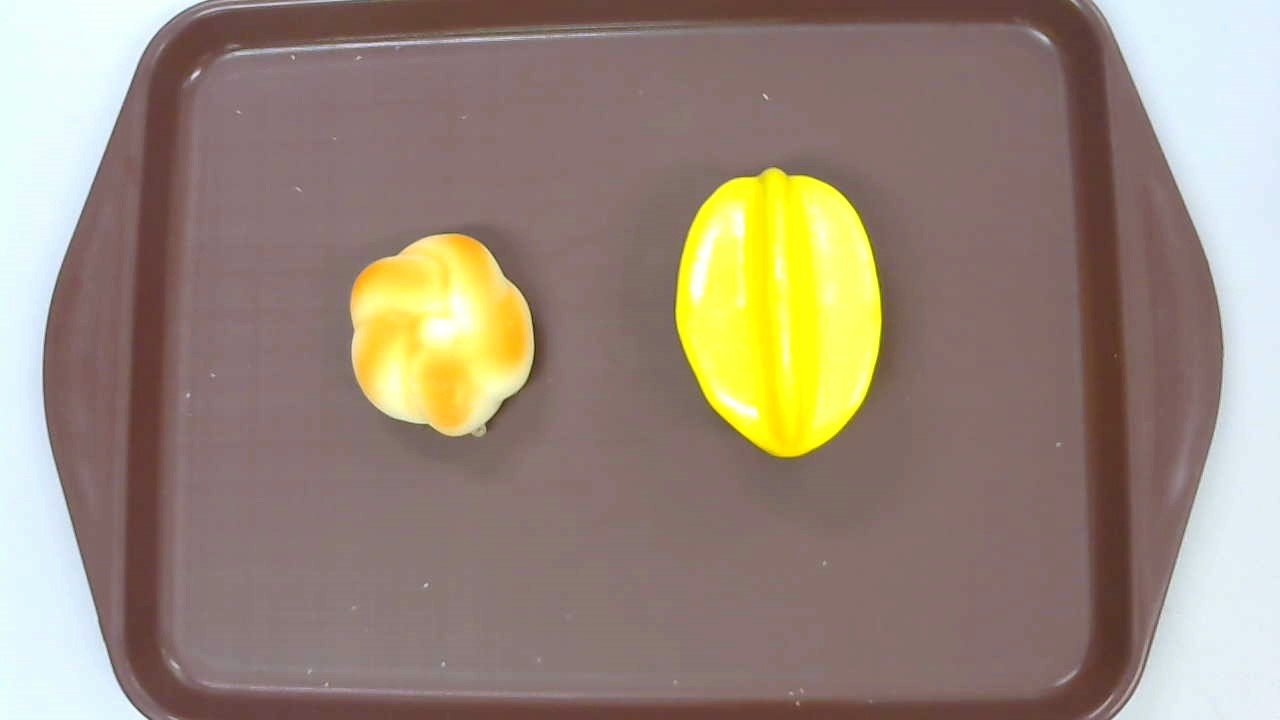star fruit: (673, 167, 880, 458)
twist bread: (349, 234, 535, 438)
